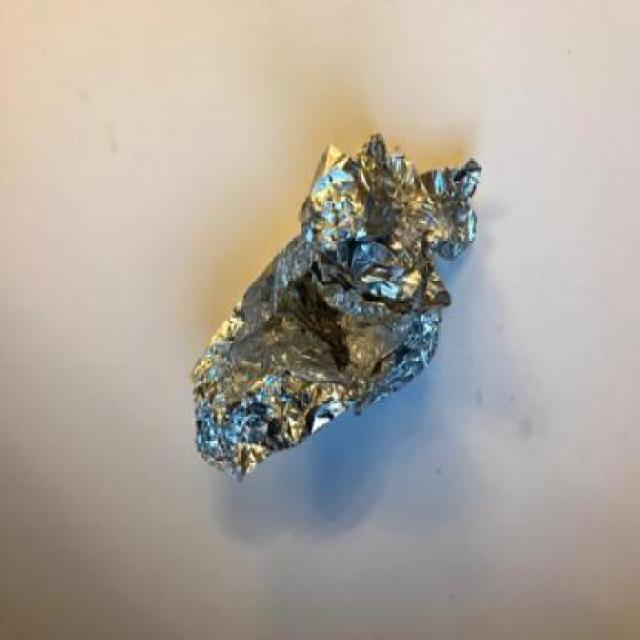METAL: (190, 132, 485, 483)
